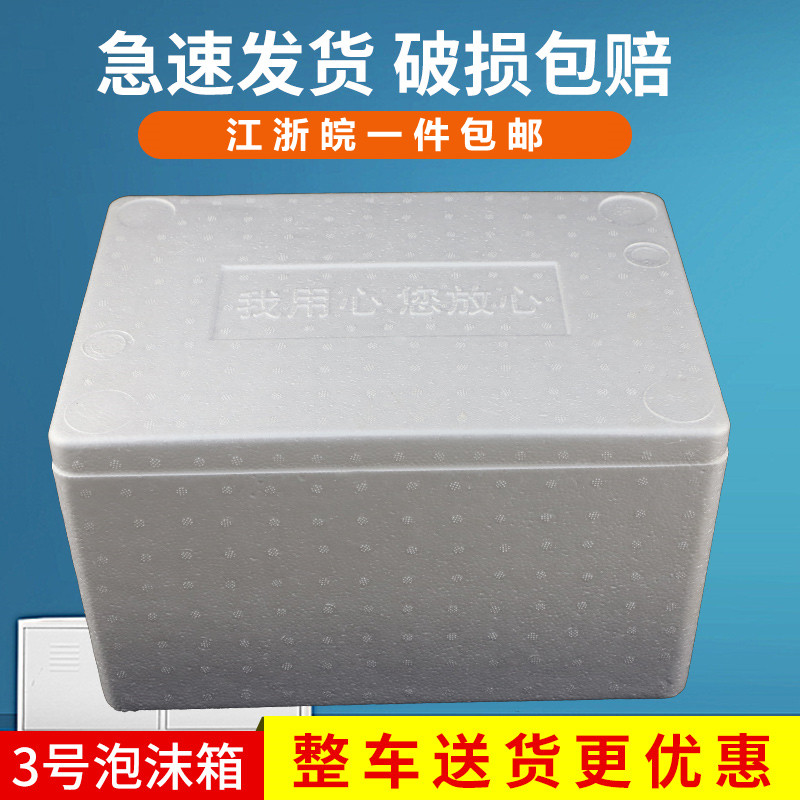泡沫箱: (50, 193, 729, 710)
